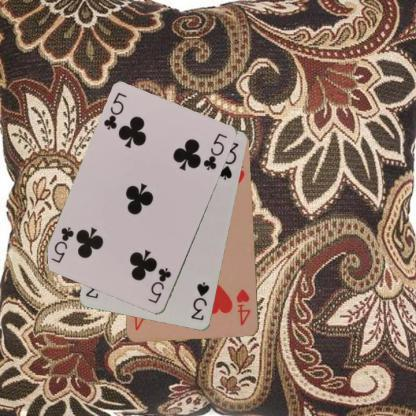3s: (188, 280, 211, 322)
4h: (234, 286, 252, 327)
5c: (101, 90, 128, 132), (145, 265, 173, 305)
